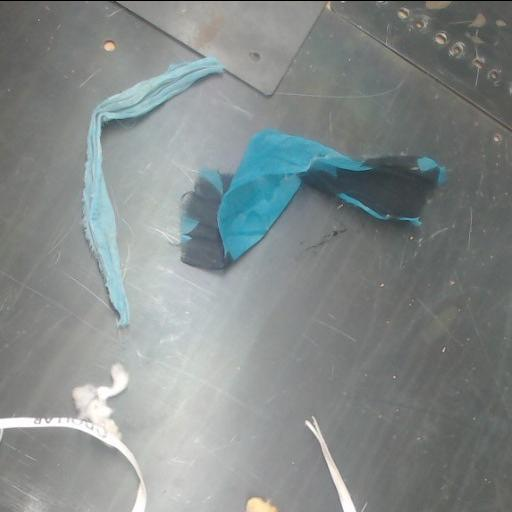cloth: (83, 58, 223, 328), (181, 130, 444, 270)
conveyor belt: (0, 1, 511, 512)
thread: (0, 417, 145, 512), (305, 416, 357, 512)
